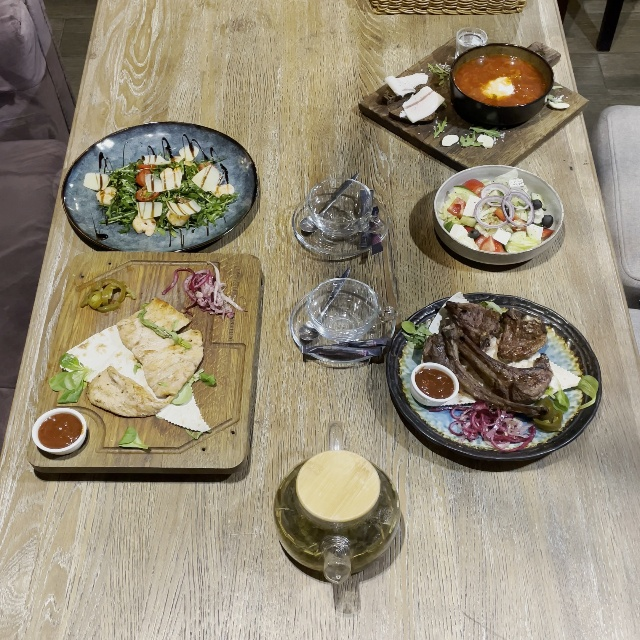Греческий салат: (425, 158, 570, 275)
На дерев. с соусом и луком: (28, 246, 267, 485)
Ребрышки с соусом: (388, 284, 609, 475)
Салат с курицей: (57, 113, 271, 252)
Суп с салом: (347, 23, 597, 186)
Чайник: (254, 418, 420, 593)
